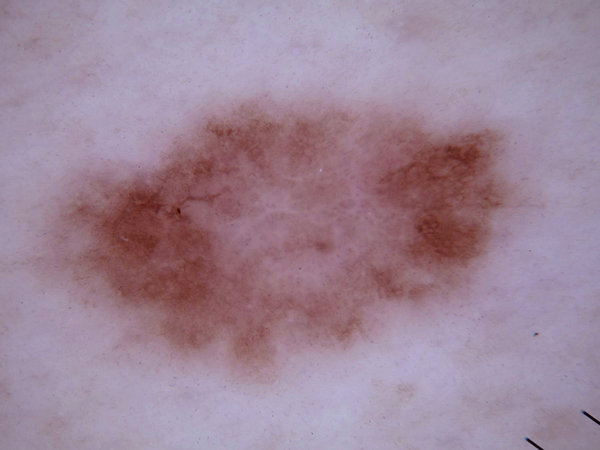Detected Lesion: (68, 98, 518, 368)
